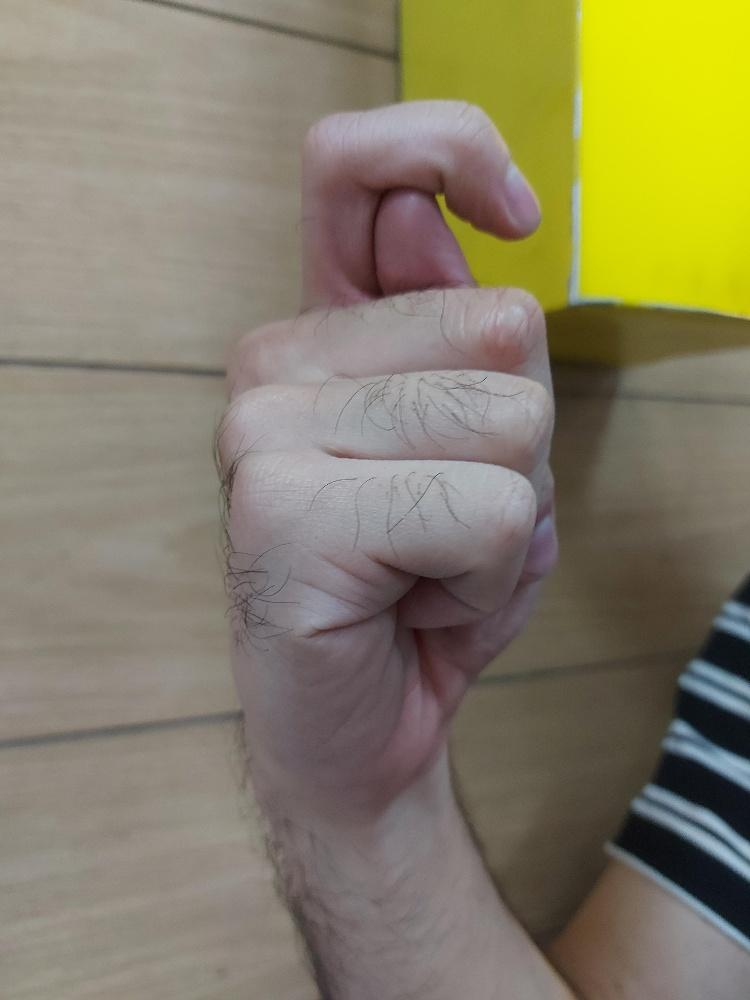t: (213, 94, 563, 825)
